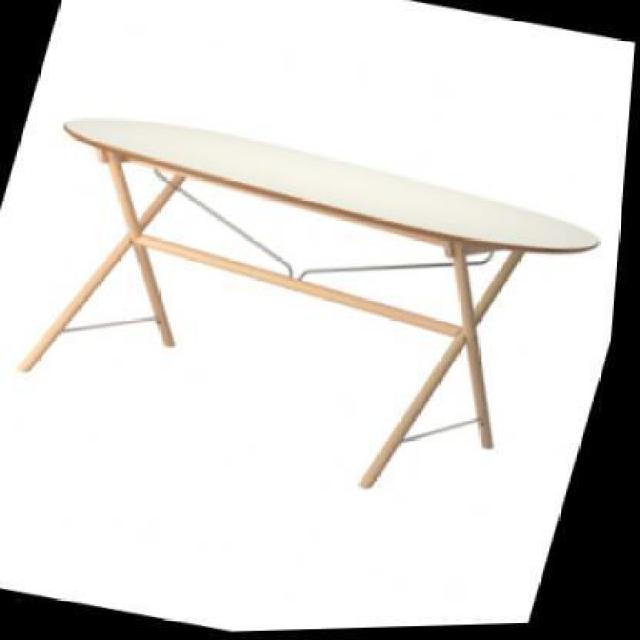tables: (15, 114, 600, 489)
